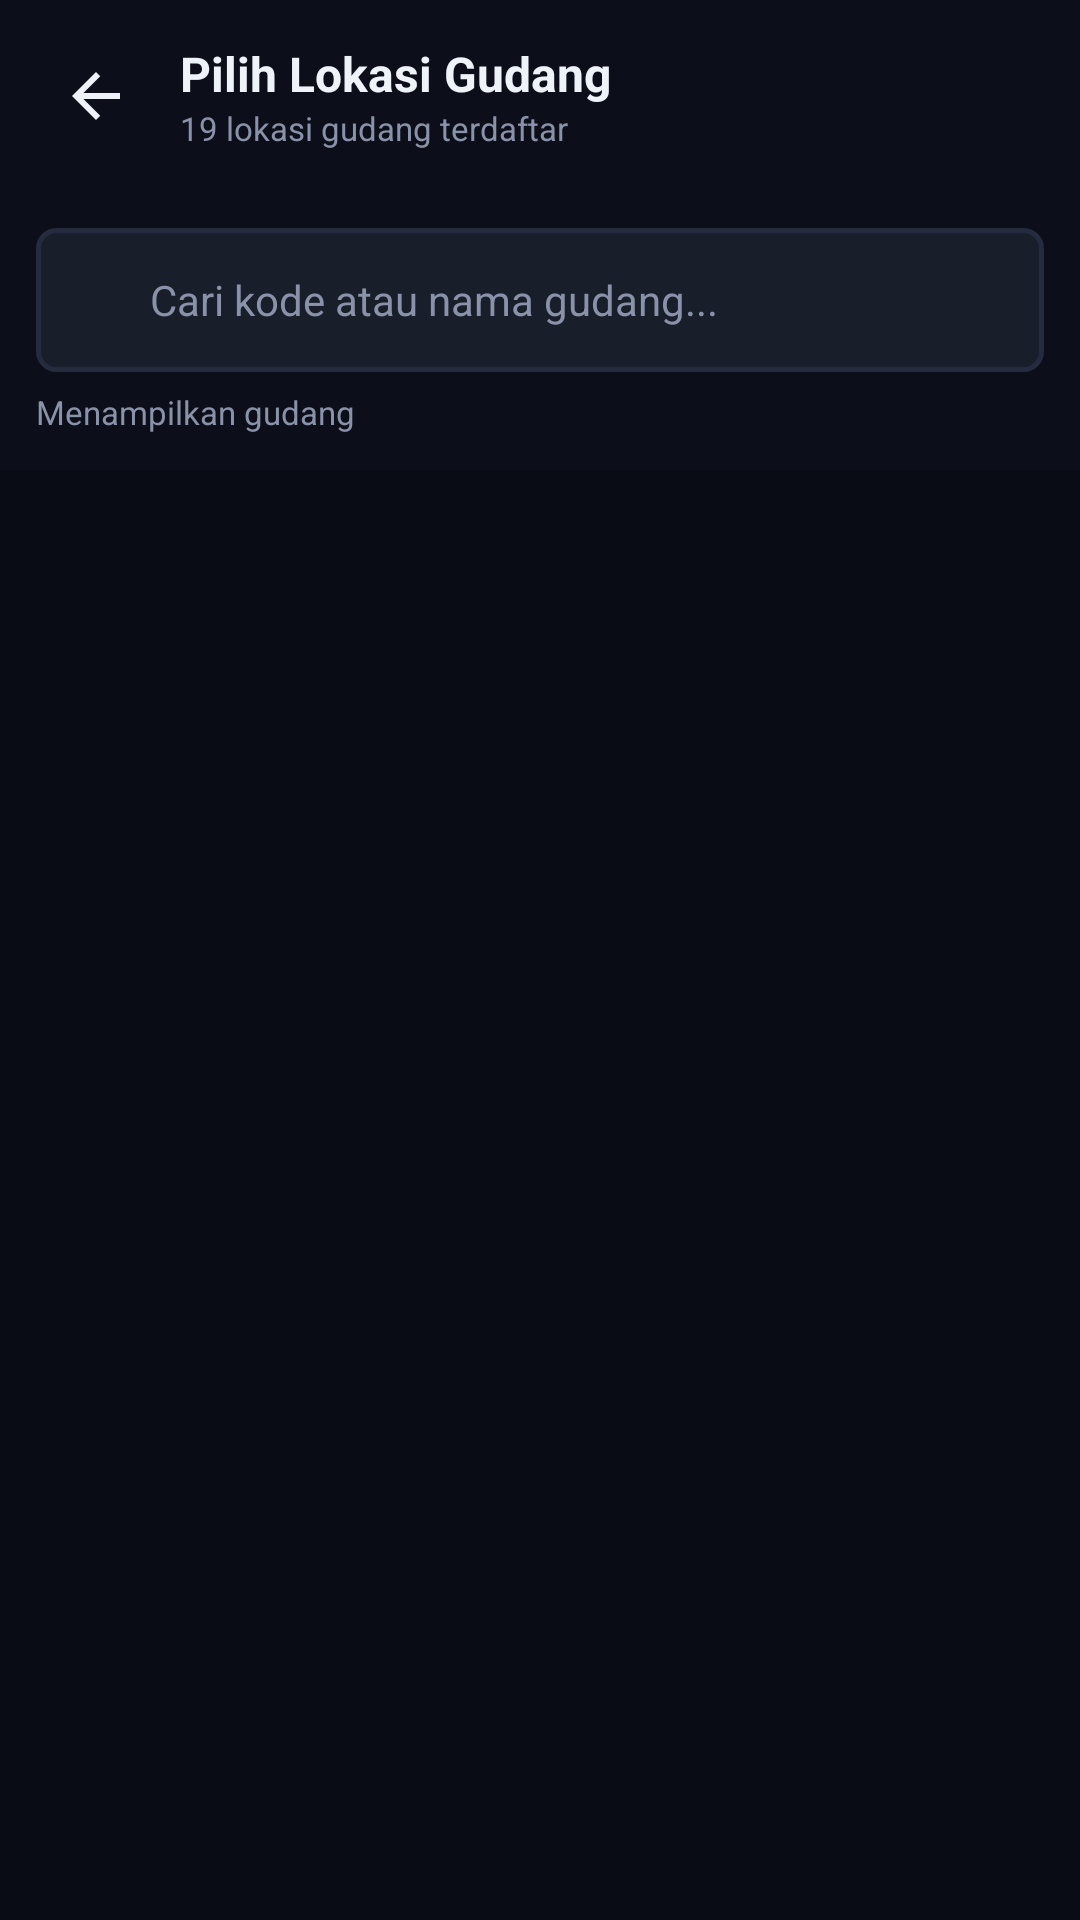

Icons on this 1080px×1920px Android screen, each with its box as {"left": x1, "top": y1, "right": x2, "bottom": y2}:
Kembali: {"left": 72, "top": 72, "right": 120, "bottom": 120}
